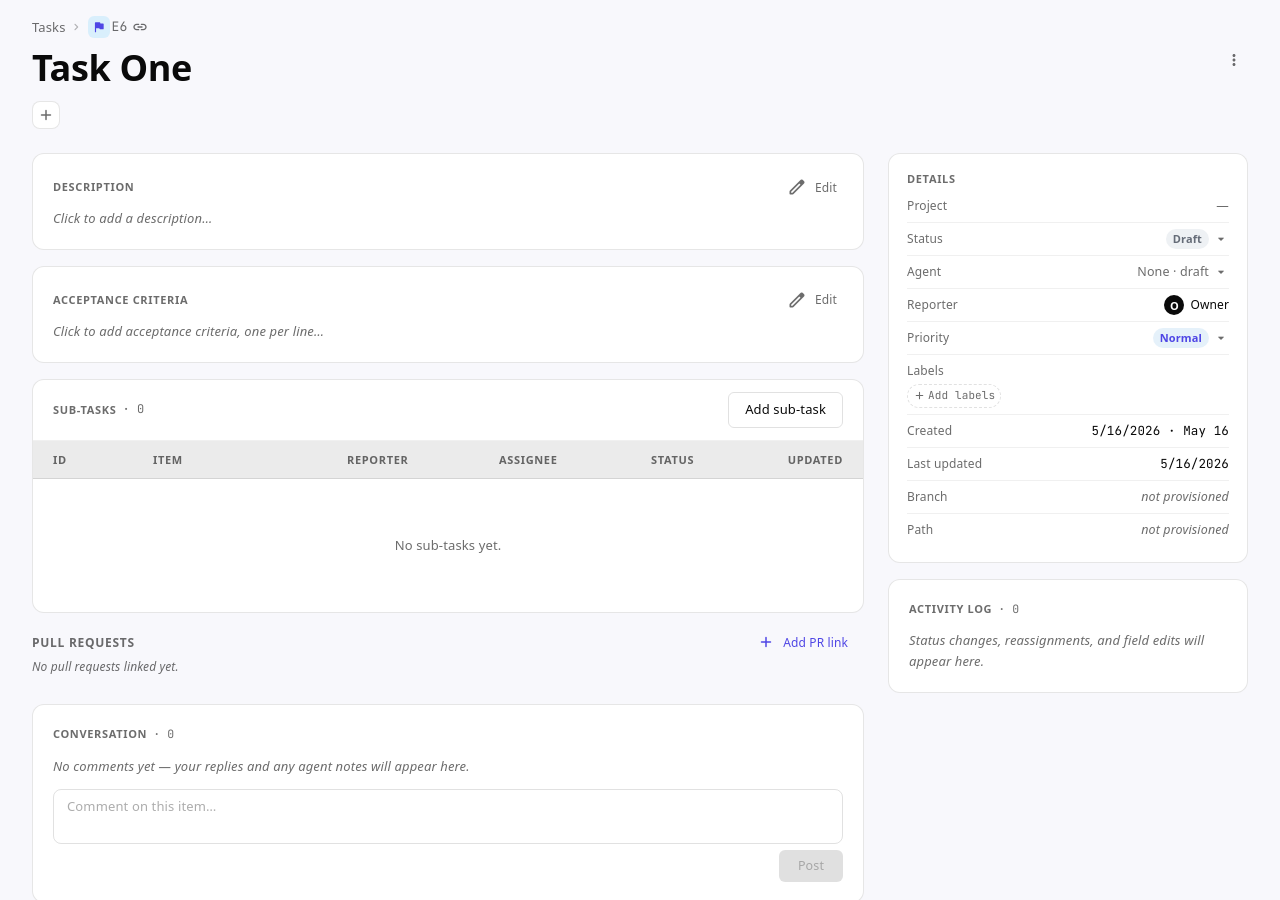
Test: TaskDetail page › opens the status picker popover and selects the current item to close
The image size is (1280, 900).
Expected: the heading "Task One" is shown, [32,46,192,89]
// The Status InfoRow is clickable. Click it to open StatusPickerPopover.
Click the button "Status Draft".
click(925, 239)  # box [907,222,1229,255]
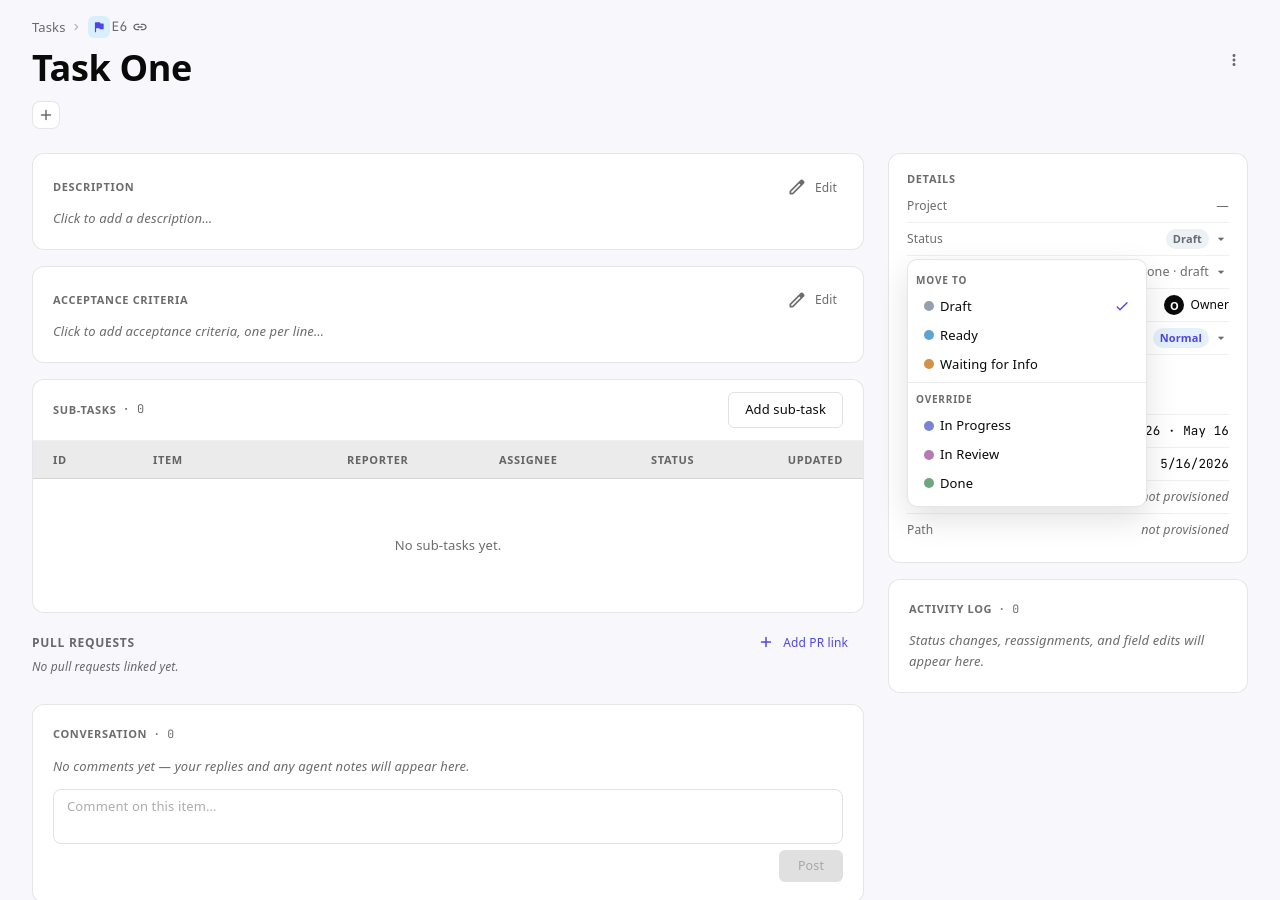
Expected: the text "Move to" is shown, [916,273,967,287]
